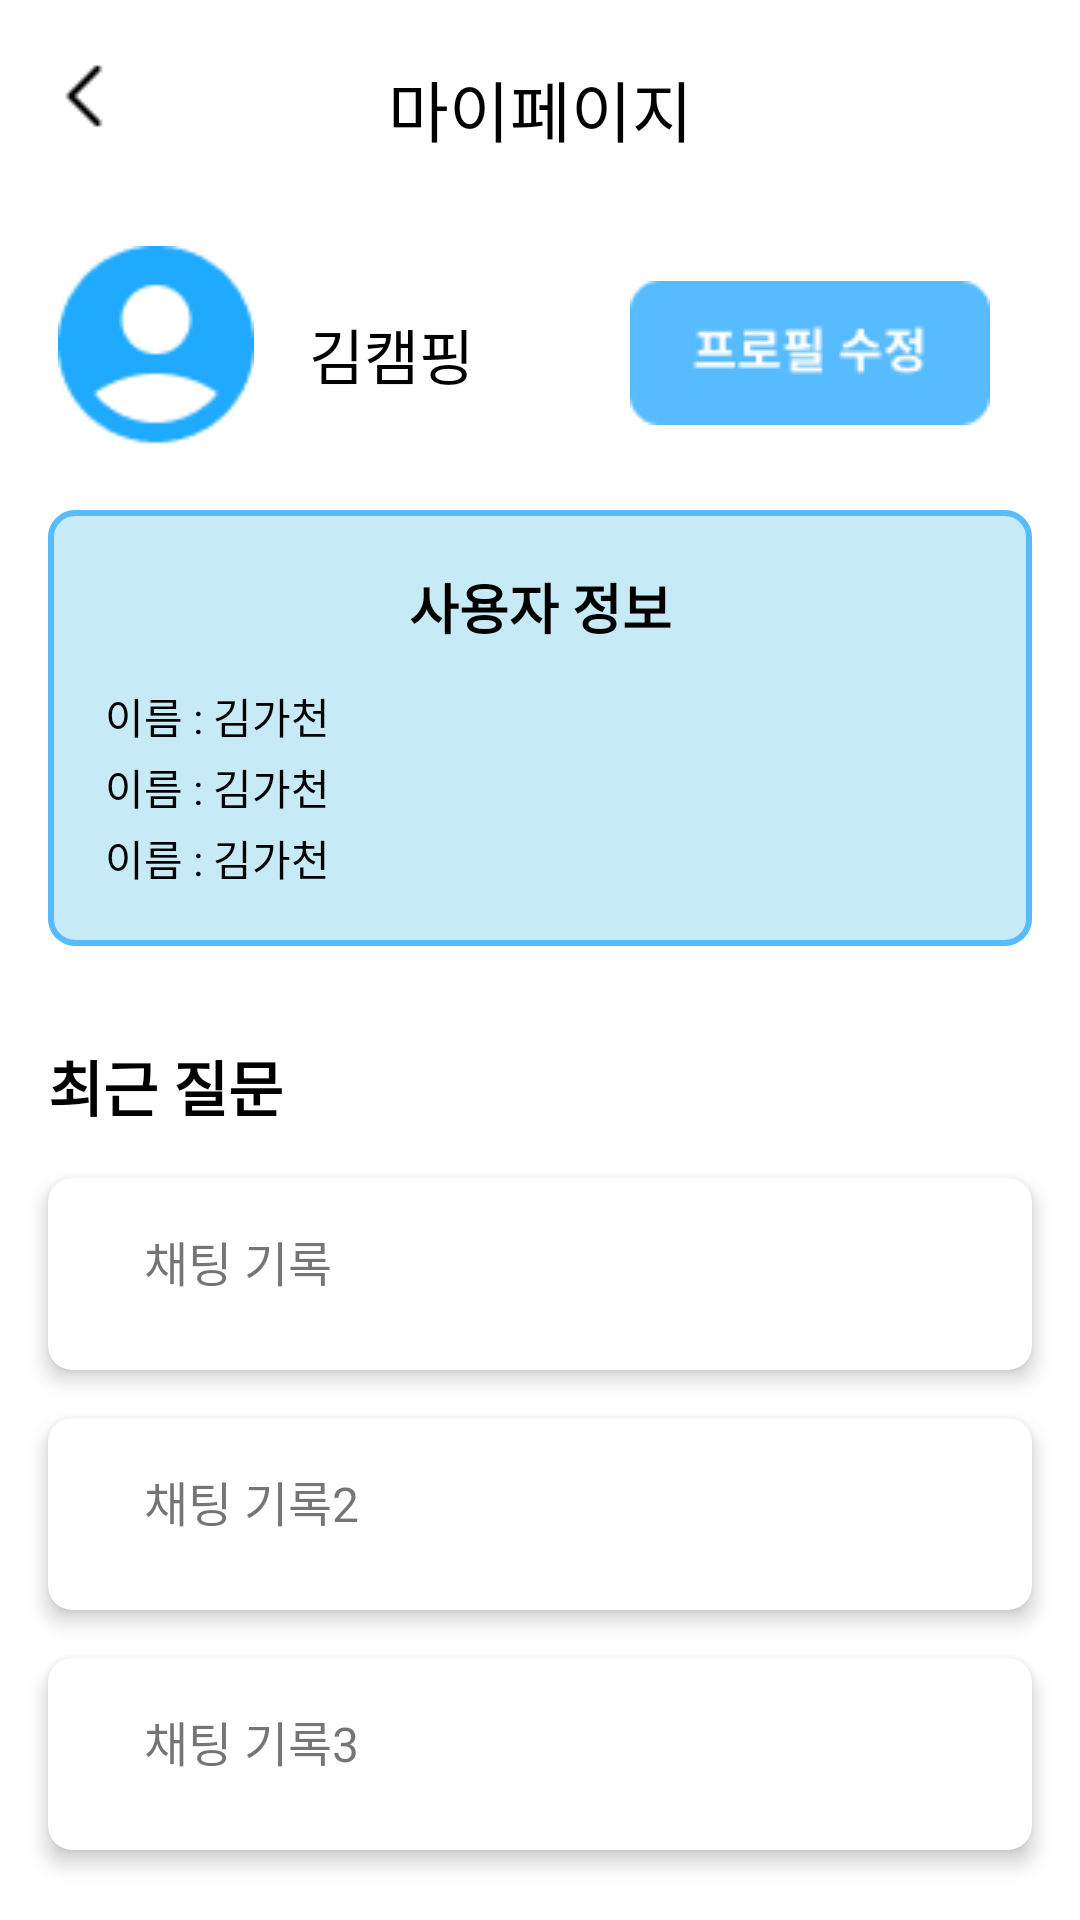

Where to tap for icons on this 1080*1920 app screen, as (x=x, y=y):
back: (x=84, y=96)
user: (x=156, y=345)
